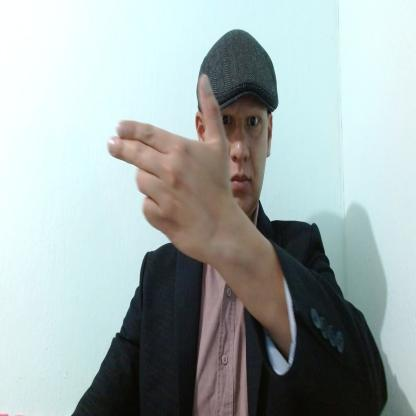H: (107, 75, 231, 268)
